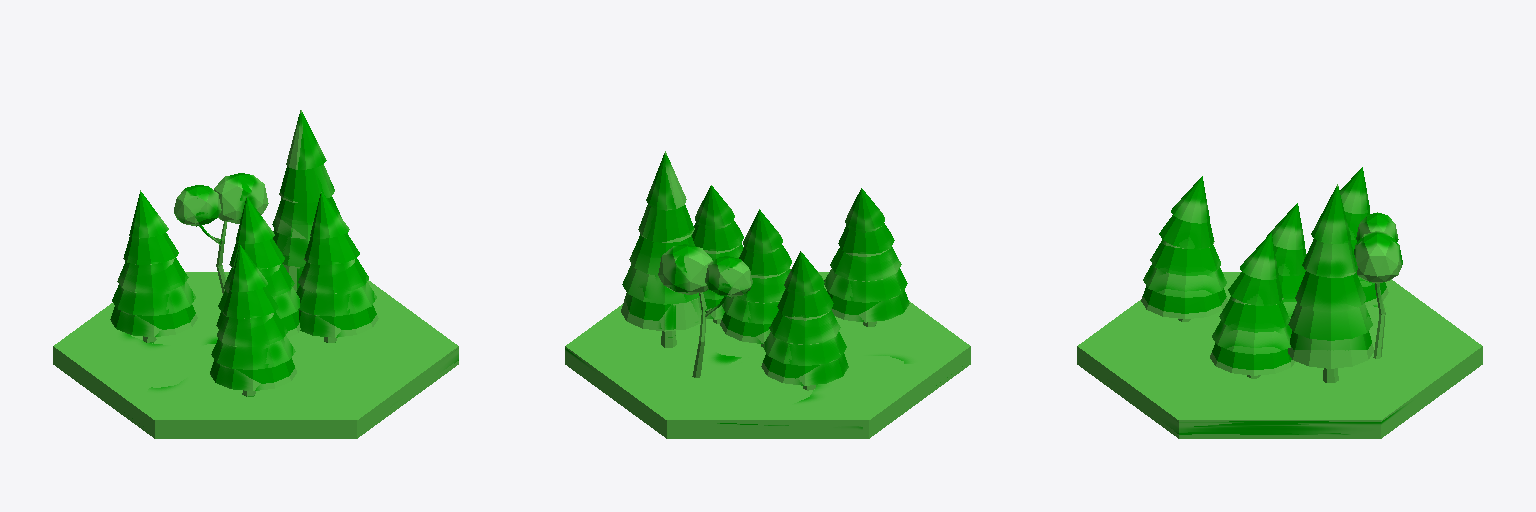
3 views of the same model, side by side, from view 1: azimuth 30°, elevation 25°; view 2: azimuth 150°, elevation 25°; view 3: azimuth 270°, elevation 25° (orthographic).
Visible parts, largest first — view 1: Low_Poly_Forest_treeTall03; view 2: Low_Poly_Forest_treeTall03; view 3: Low_Poly_Forest_treeTall03.
Boxes of the visible parts, <box> form: Low_Poly_Forest_treeTall03: <box>53,110,458,438</box>; Low_Poly_Forest_treeTall03: <box>565,151,970,438</box>; Low_Poly_Forest_treeTall03: <box>1077,167,1482,438</box>.
Size of the model in its own units: 1.73 by 1.18 by 2.
1 materials, 1 textured.